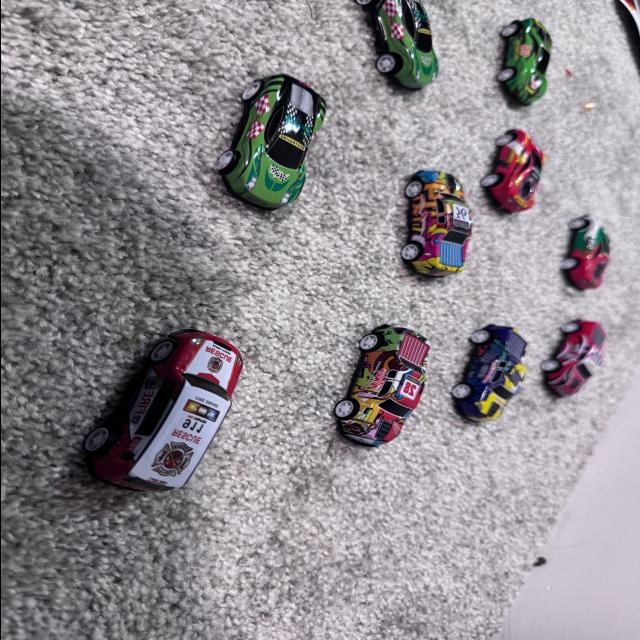Car: (98, 322, 278, 556), (213, 58, 345, 238), (316, 306, 442, 476), (394, 130, 482, 290), (343, 0, 464, 106), (442, 310, 538, 442), (479, 104, 554, 230), (533, 302, 617, 405), (555, 208, 640, 308), (491, 15, 567, 120)
